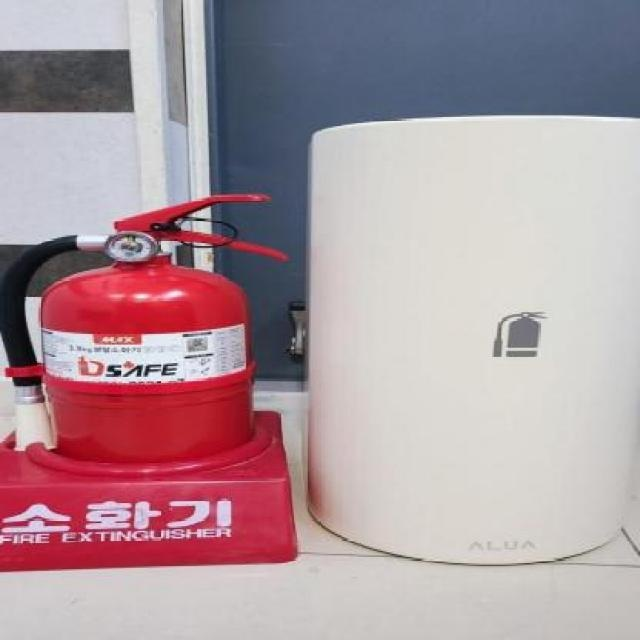fire extinguisher: (0, 193, 289, 464)
